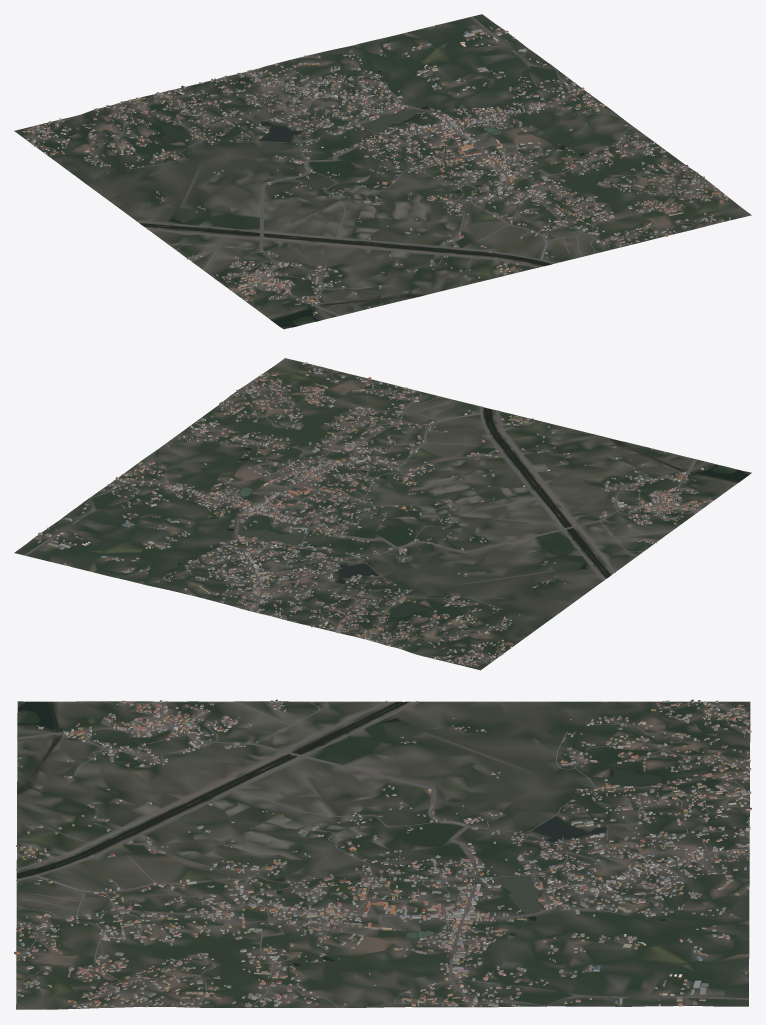
3 renders of one model, top to bottom at view 1: azimuth 30°, elevation 25°; view 2: azimuth 150°, elevation 25°; view 3: azimuth 270°, elevation 25°, orthographic. The views are drawn at different scales.
Visible parts, largest first — view 1: ground, buildings, roads, water; view 2: ground, buildings, roads, water; view 3: ground, buildings, roads, water.
Part boxes in pixels (x1=…): ground: x1=14, y1=14, x2=751, y2=329; buildings: x1=22, y1=25, x2=730, y2=314; roads: x1=24, y1=16, x2=731, y2=316; water: x1=140, y1=70, x2=631, y2=327; ground: x1=14, y1=358, x2=751, y2=670; buildings: x1=34, y1=362, x2=712, y2=666; roads: x1=24, y1=366, x2=709, y2=665; water: x1=177, y1=407, x2=748, y2=617; ground: x1=16, y1=701, x2=750, y2=1009; buildings: x1=14, y1=699, x2=751, y2=1008; roads: x1=16, y1=701, x2=750, y2=1008; water: x1=17, y1=701, x2=666, y2=1003.
Bounding box in the file's own units: 2811 × 34.12 × 2823.
